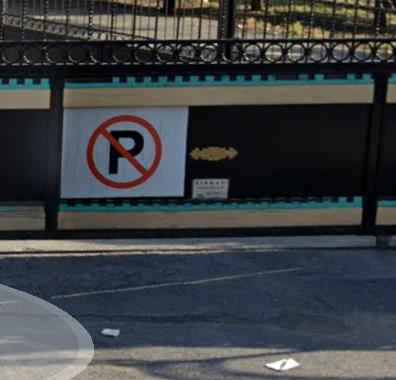nopark: (91, 117, 161, 187)
